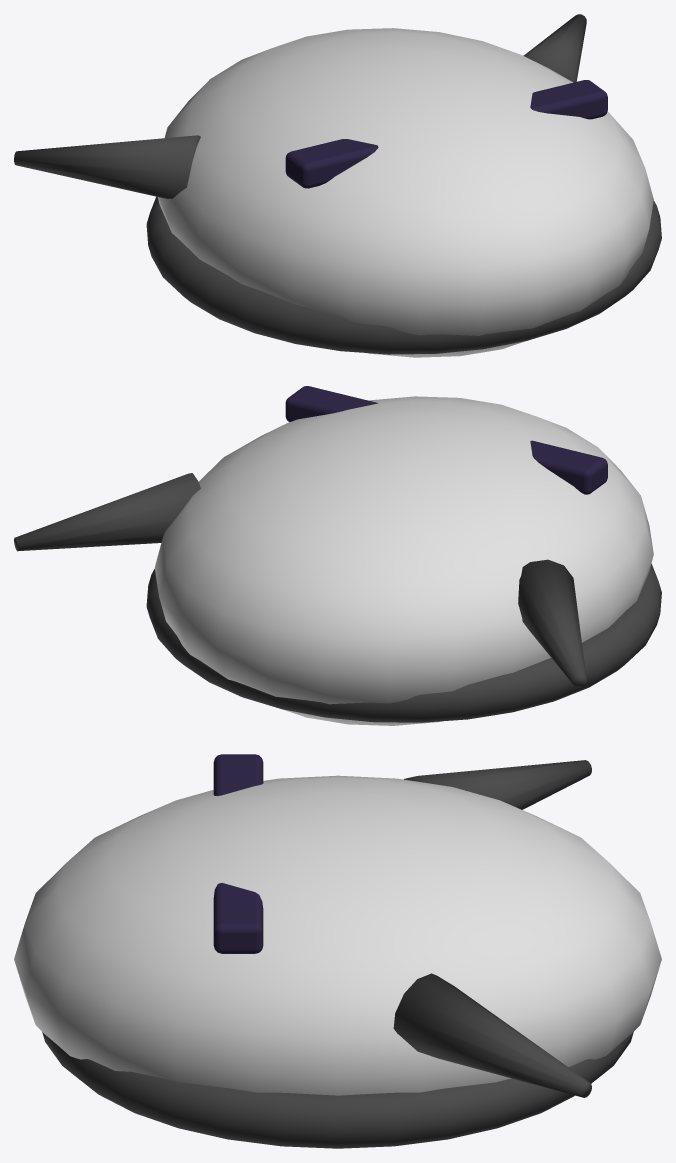
The model's file is helm.glb.
The picture shows the model from 3 angles, top to bottom: view 1: azimuth 30°, elevation 25°; view 2: azimuth 150°, elevation 25°; view 3: azimuth 270°, elevation 25°; orthographic projection. The views are drawn at different scales.
Visible parts, largest first — view 1: helm; view 2: helm; view 3: helm.
Part boxes in pixels (x1,y1,x2,y2): helm: (14,14,661,357); helm: (14,386,661,725); helm: (14,754,661,1148).
Size of the model in its own units: 0.9344 by 0.374 by 0.782.
